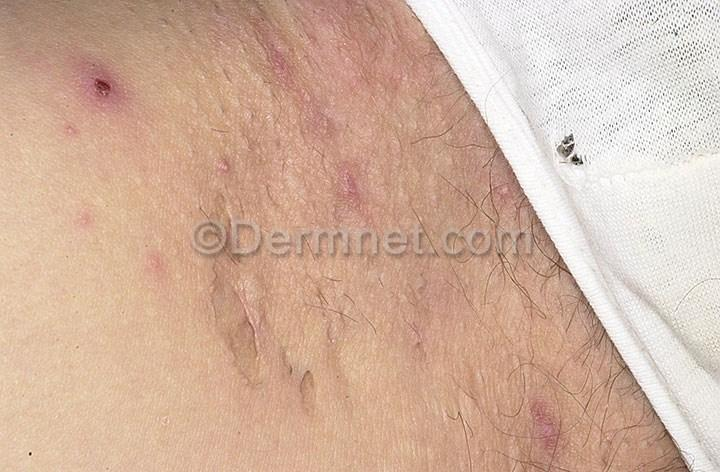Acne: (197, 147, 265, 204), (81, 54, 143, 110), (257, 47, 316, 103)
